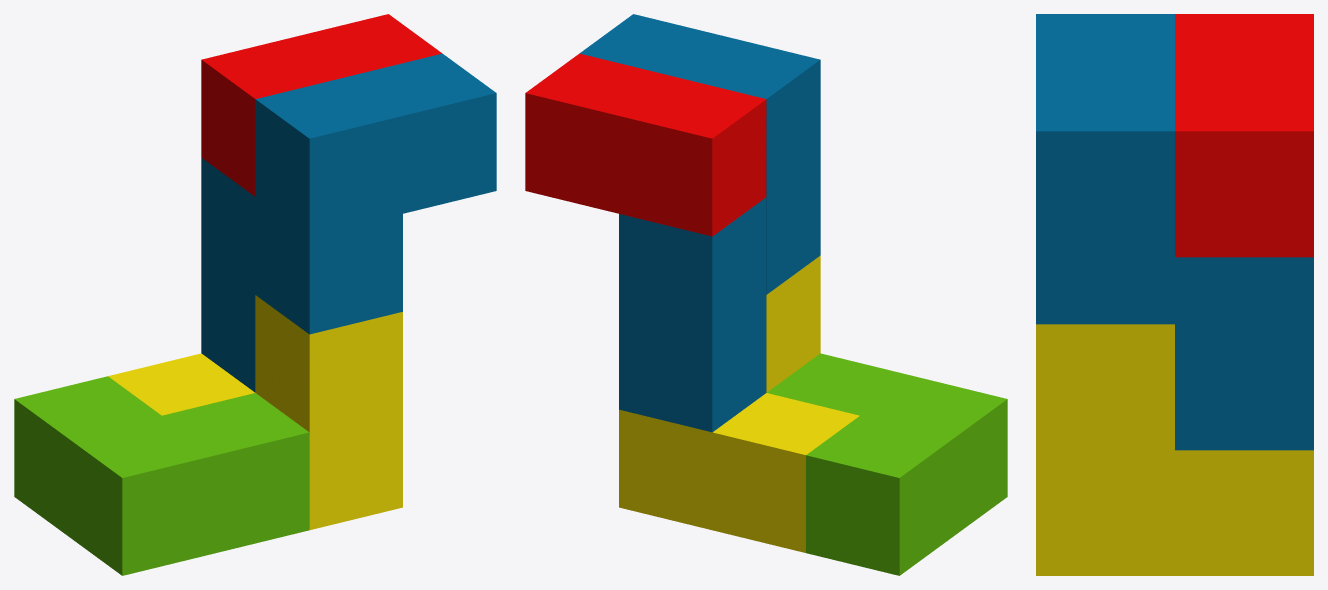
The picture shows the model from 3 angles, left to right: view 1: azimuth 30°, elevation 25°; view 2: azimuth 150°, elevation 25°; view 3: azimuth 270°, elevation 25°; orthographic projection. The views are drawn at different scales.
Parts seen in each view (by area): view 1: mergedBlocks(Clone); view 2: mergedBlocks(Clone); view 3: mergedBlocks(Clone).
Part boxes in pixels (box(x1,y1,x2,y2)): mergedBlocks(Clone): box(14, 14, 496, 575); mergedBlocks(Clone): box(525, 14, 1007, 575); mergedBlocks(Clone): box(1036, 14, 1313, 575).
Bounding box in the file's own units: 4 × 4 × 2.
4 materials, 4 textured.
